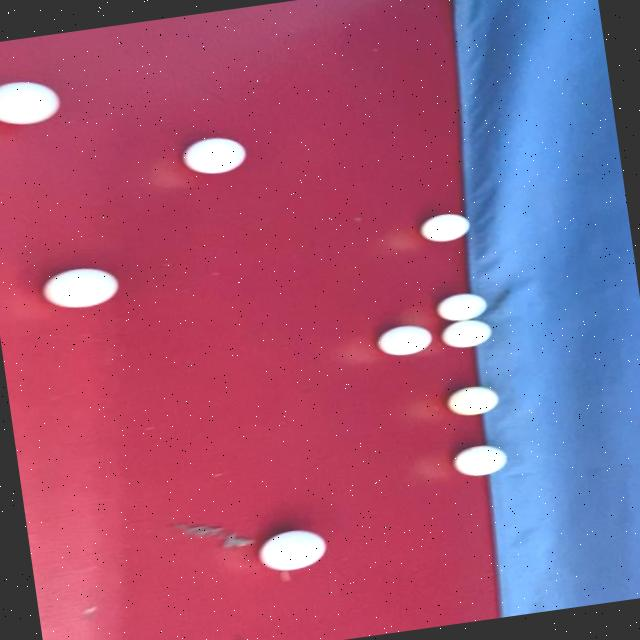ping-pong-ball: (0, 65, 78, 140), (35, 258, 129, 320), (252, 522, 337, 578), (175, 130, 258, 184), (442, 438, 524, 484), (409, 204, 479, 250), (438, 380, 511, 424), (370, 318, 440, 363), (430, 288, 499, 326), (438, 315, 502, 353)
